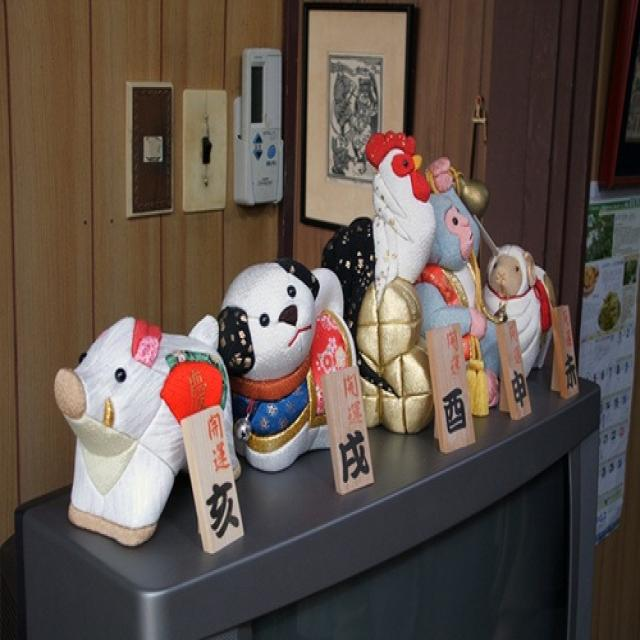tvmonitor: (0, 364, 602, 638)
